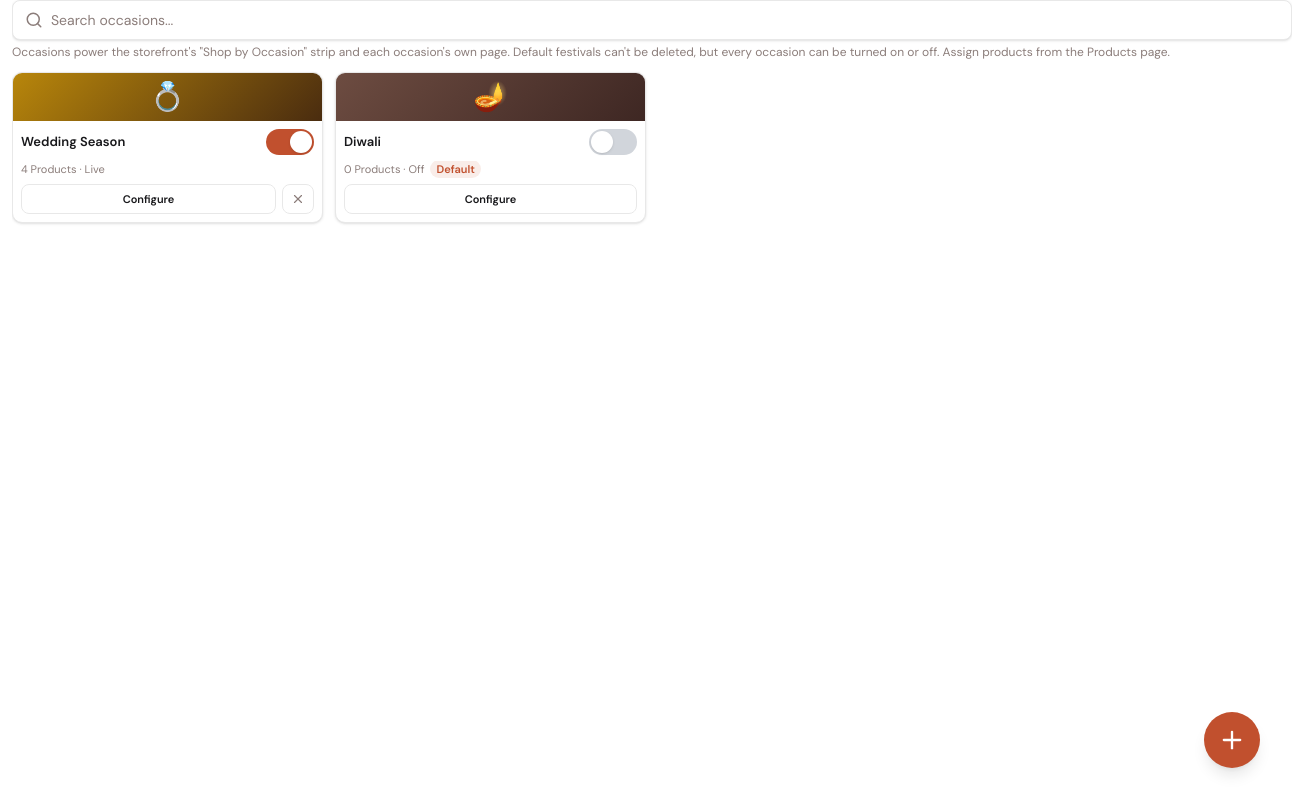
Test case: OccasionsClient › filters occasions by the search box
Type "wedding" into the field with placeholder "Search occasions..." at (665, 20), box [51,10,1279,30]
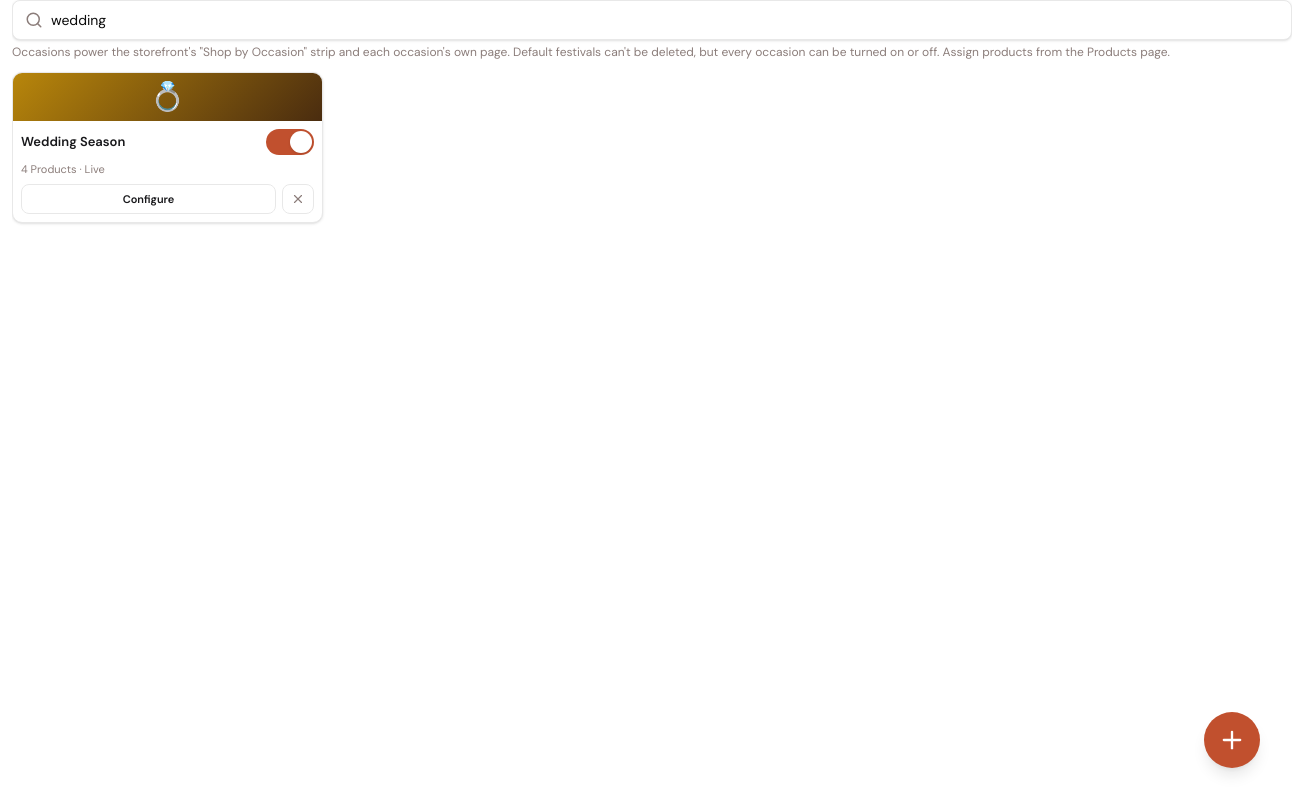
Expected: the text "Wedding Season" is shown, [21,133,125,151]
Expected: the text "Diwali" is gone
